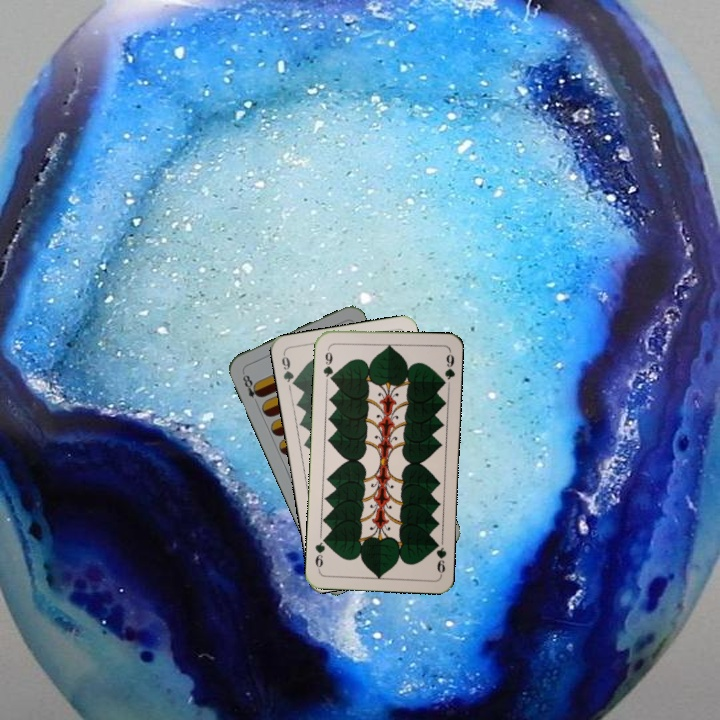E8: (238, 368, 264, 401)
G9: (277, 350, 300, 389), (430, 536, 449, 577), (319, 343, 336, 384)
